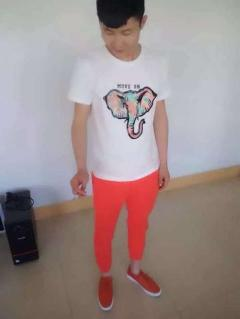short sleeve top: (66, 42, 172, 182)
trousers: (91, 164, 160, 273)
